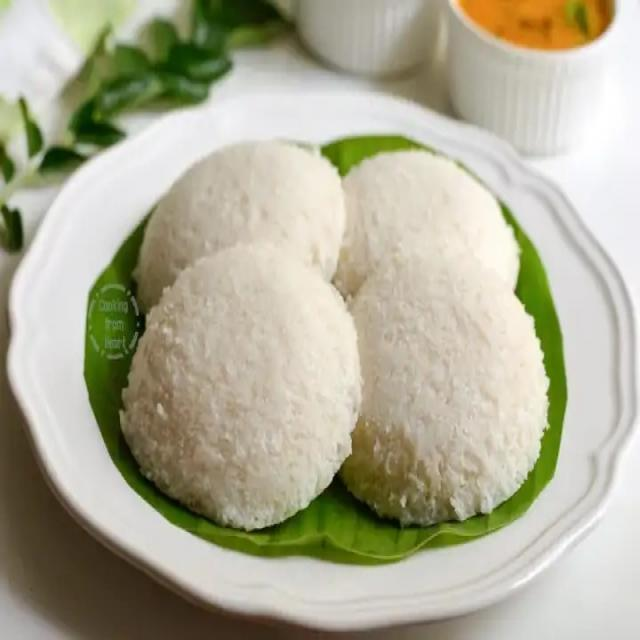Idli: (120, 241, 365, 532), (344, 259, 556, 517), (133, 142, 344, 312), (339, 148, 525, 304)
